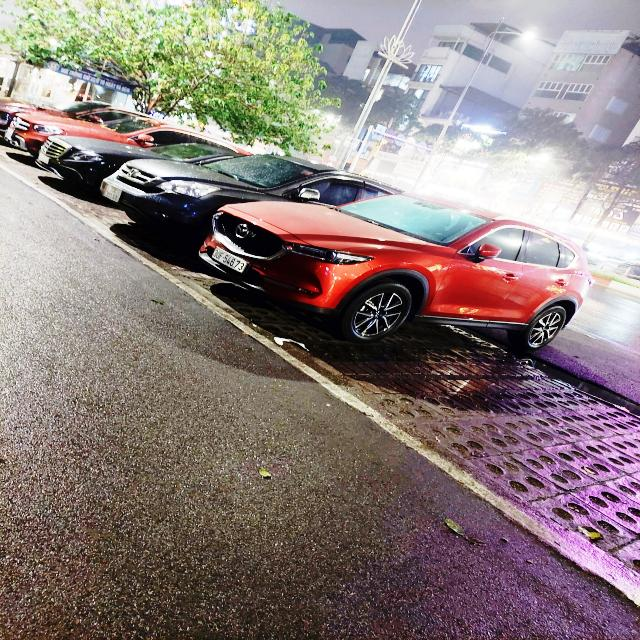license_plate: (209, 245, 250, 276)
